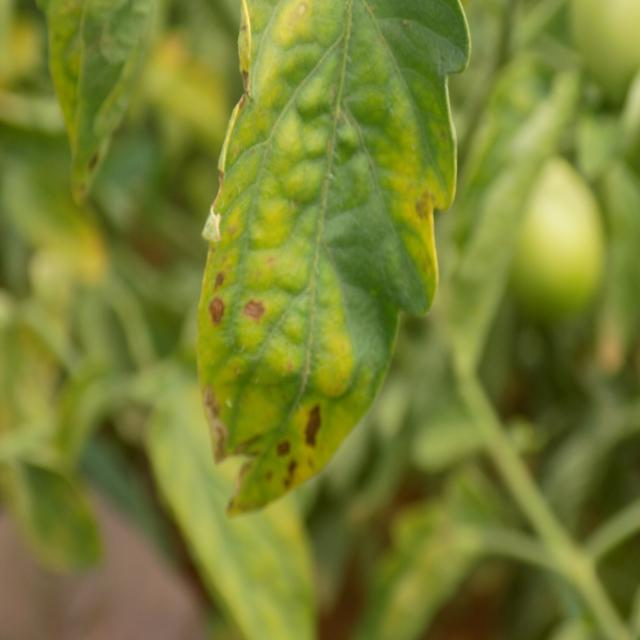tomato_early blight: (198, 0, 468, 526)
